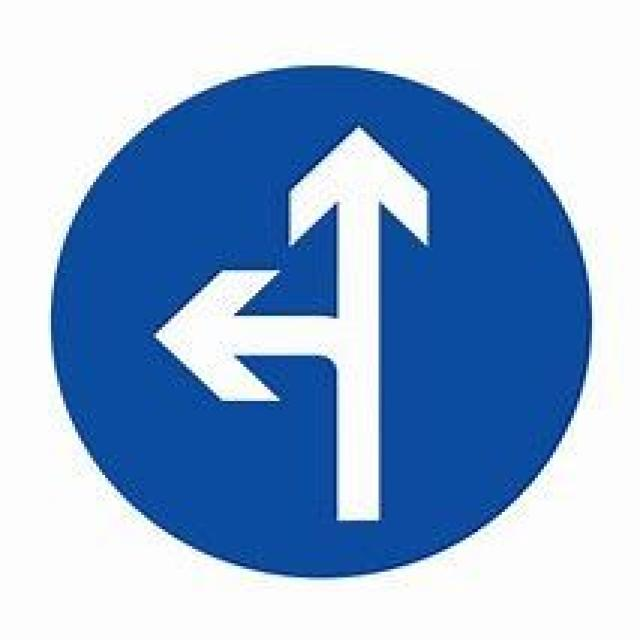COMPULSARY_AHEAD_OR_TURN_LEFT: (43, 62, 601, 588)
